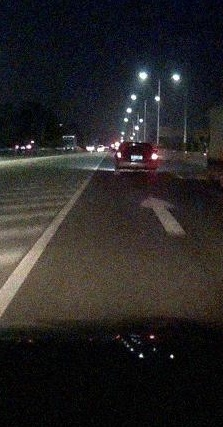L_light: (116, 152, 122, 158)
R_light: (151, 153, 157, 160)
T_light: (134, 142, 140, 145)
night-right: (115, 141, 158, 177)
